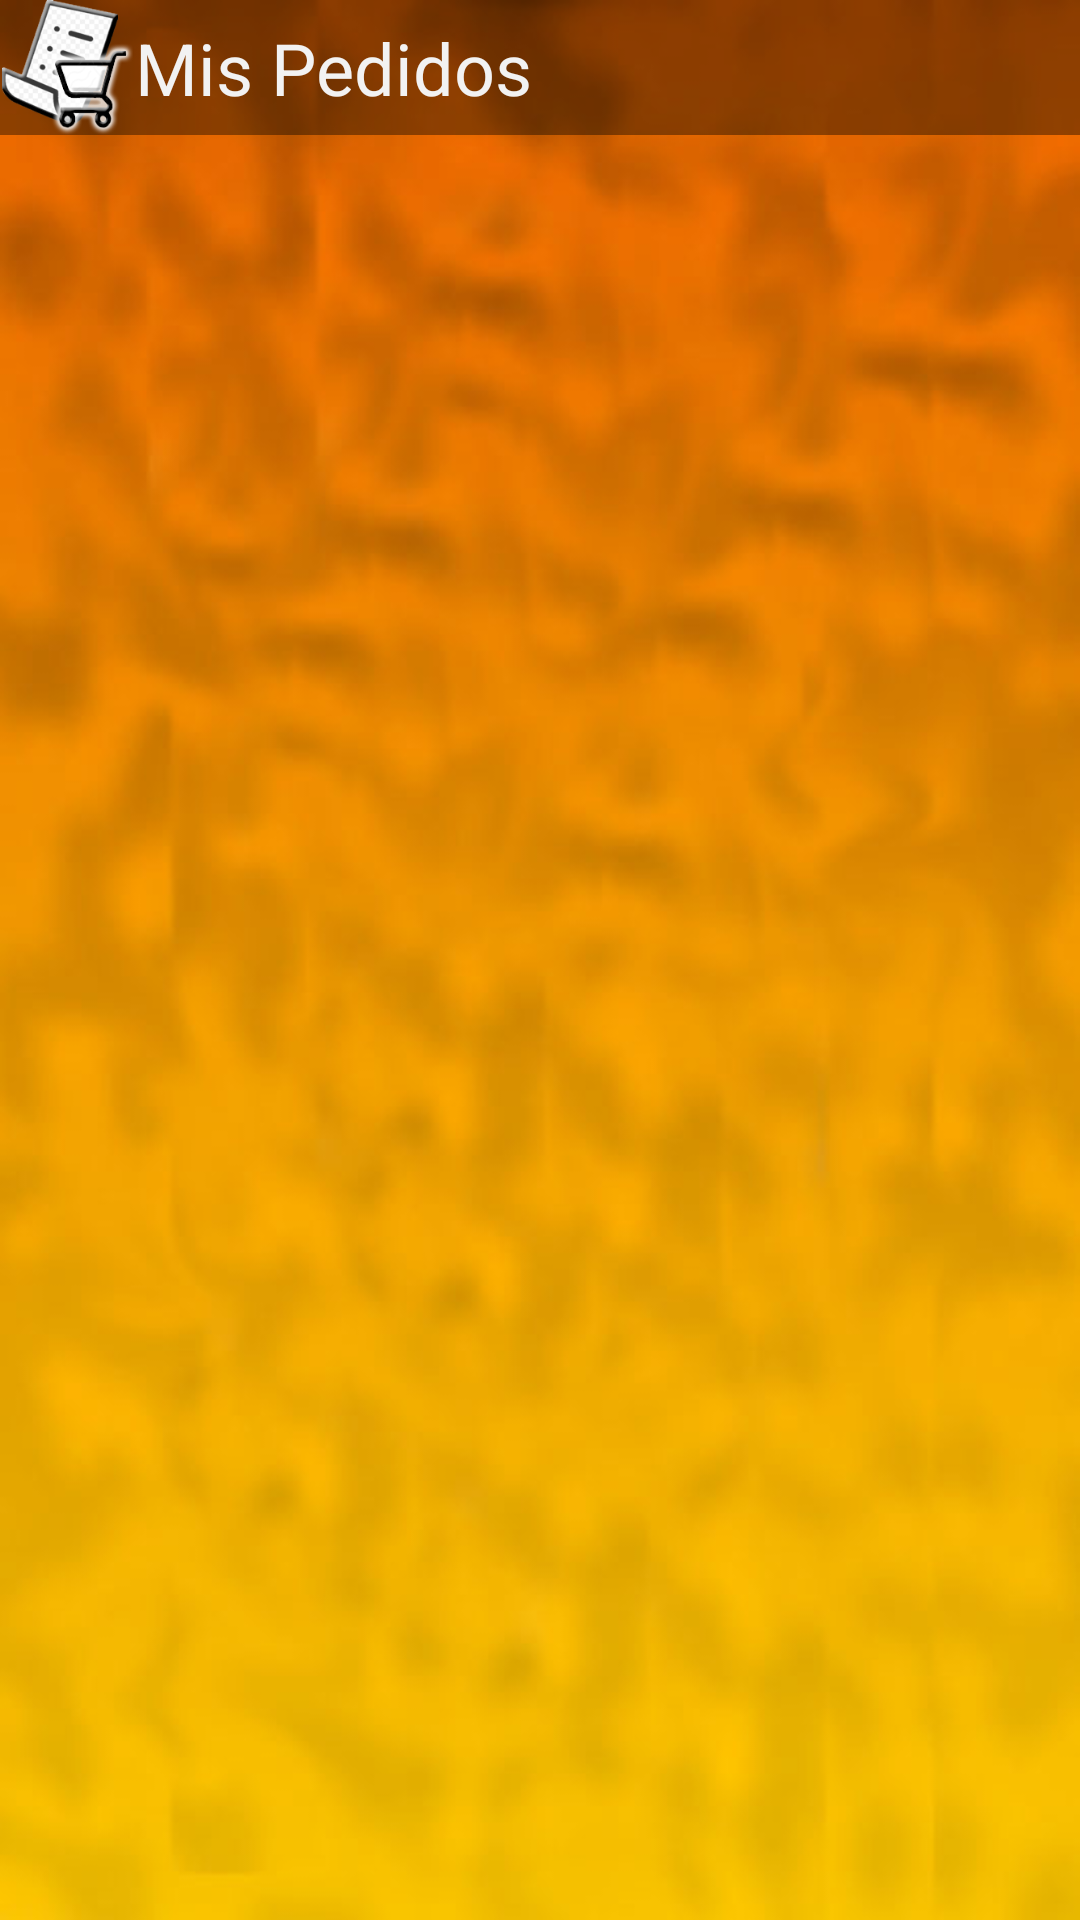

Icons on this 1080 × 1920 Android screen, each with the point to tap as (x=x, y=y):
mi pedidos: (x=67, y=66)
